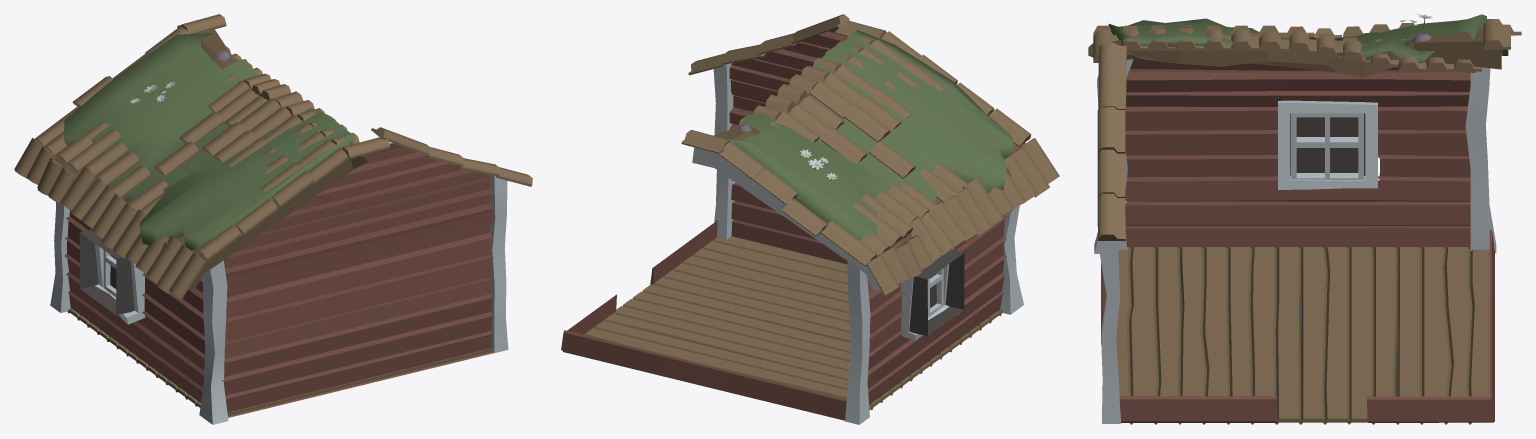
The model's file is P_Cabin_Workshop_Inside_LD.fbx.
The picture shows the model from 3 angles, left to right: view 1: azimuth 30°, elevation 25°; view 2: azimuth 150°, elevation 25°; view 3: azimuth 270°, elevation 25°; orthographic projection. The views are drawn at different scales.
Parts seen in each view (by area): view 1: P_Cabin_Workshop_Inside; view 2: P_Cabin_Workshop_Inside; view 3: P_Cabin_Workshop_Inside.
Part boxes in pixels (bbox=[...]): P_Cabin_Workshop_Inside: bbox=[14, 14, 532, 424]; P_Cabin_Workshop_Inside: bbox=[561, 14, 1059, 424]; P_Cabin_Workshop_Inside: bbox=[1088, 14, 1521, 424].
Bounding box in the file's own units: 8.22 × 5.46 × 6.92.
Materials: 2 (2 with a texture image).
